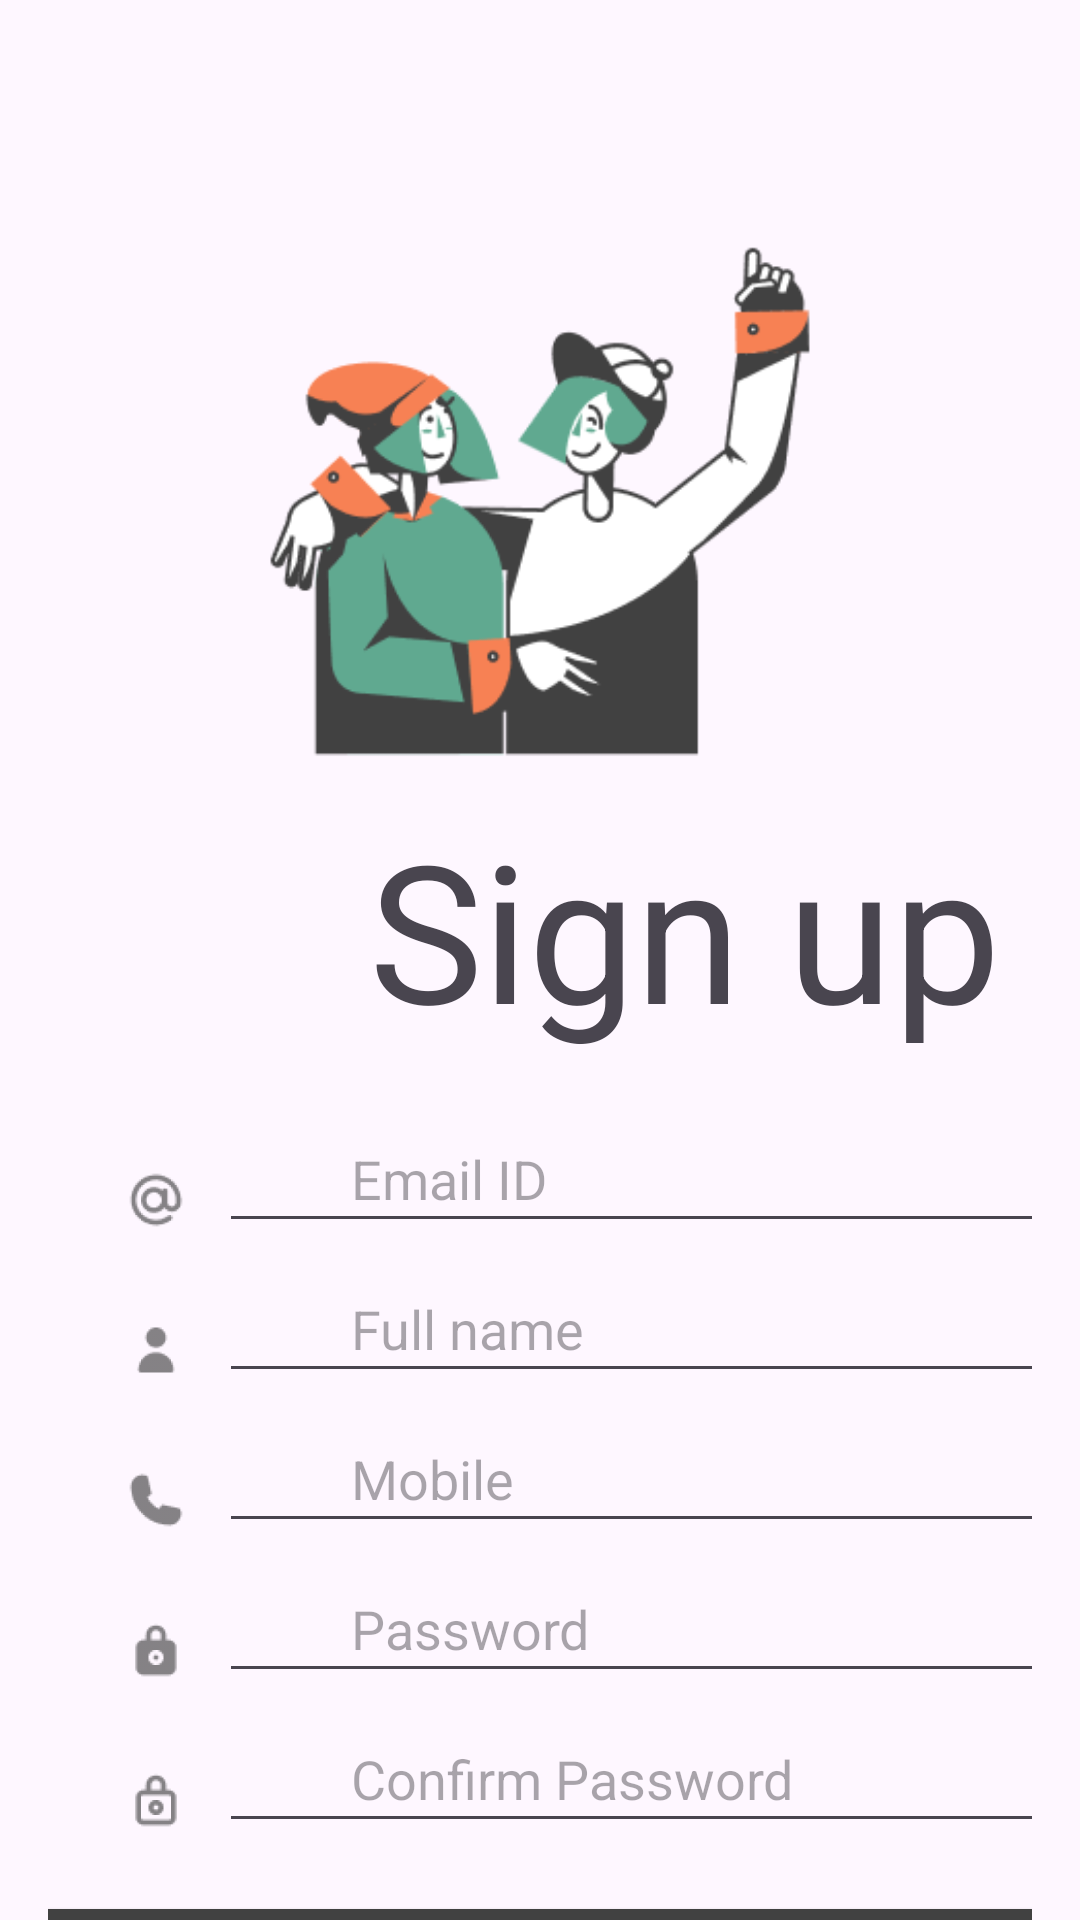

Named icons in this screenshot (1080*1920) and their bounding boxes, (x1, y1, x2, y2):
at sign: (130, 1174, 182, 1226)
person icon: (137, 1327, 174, 1373)
